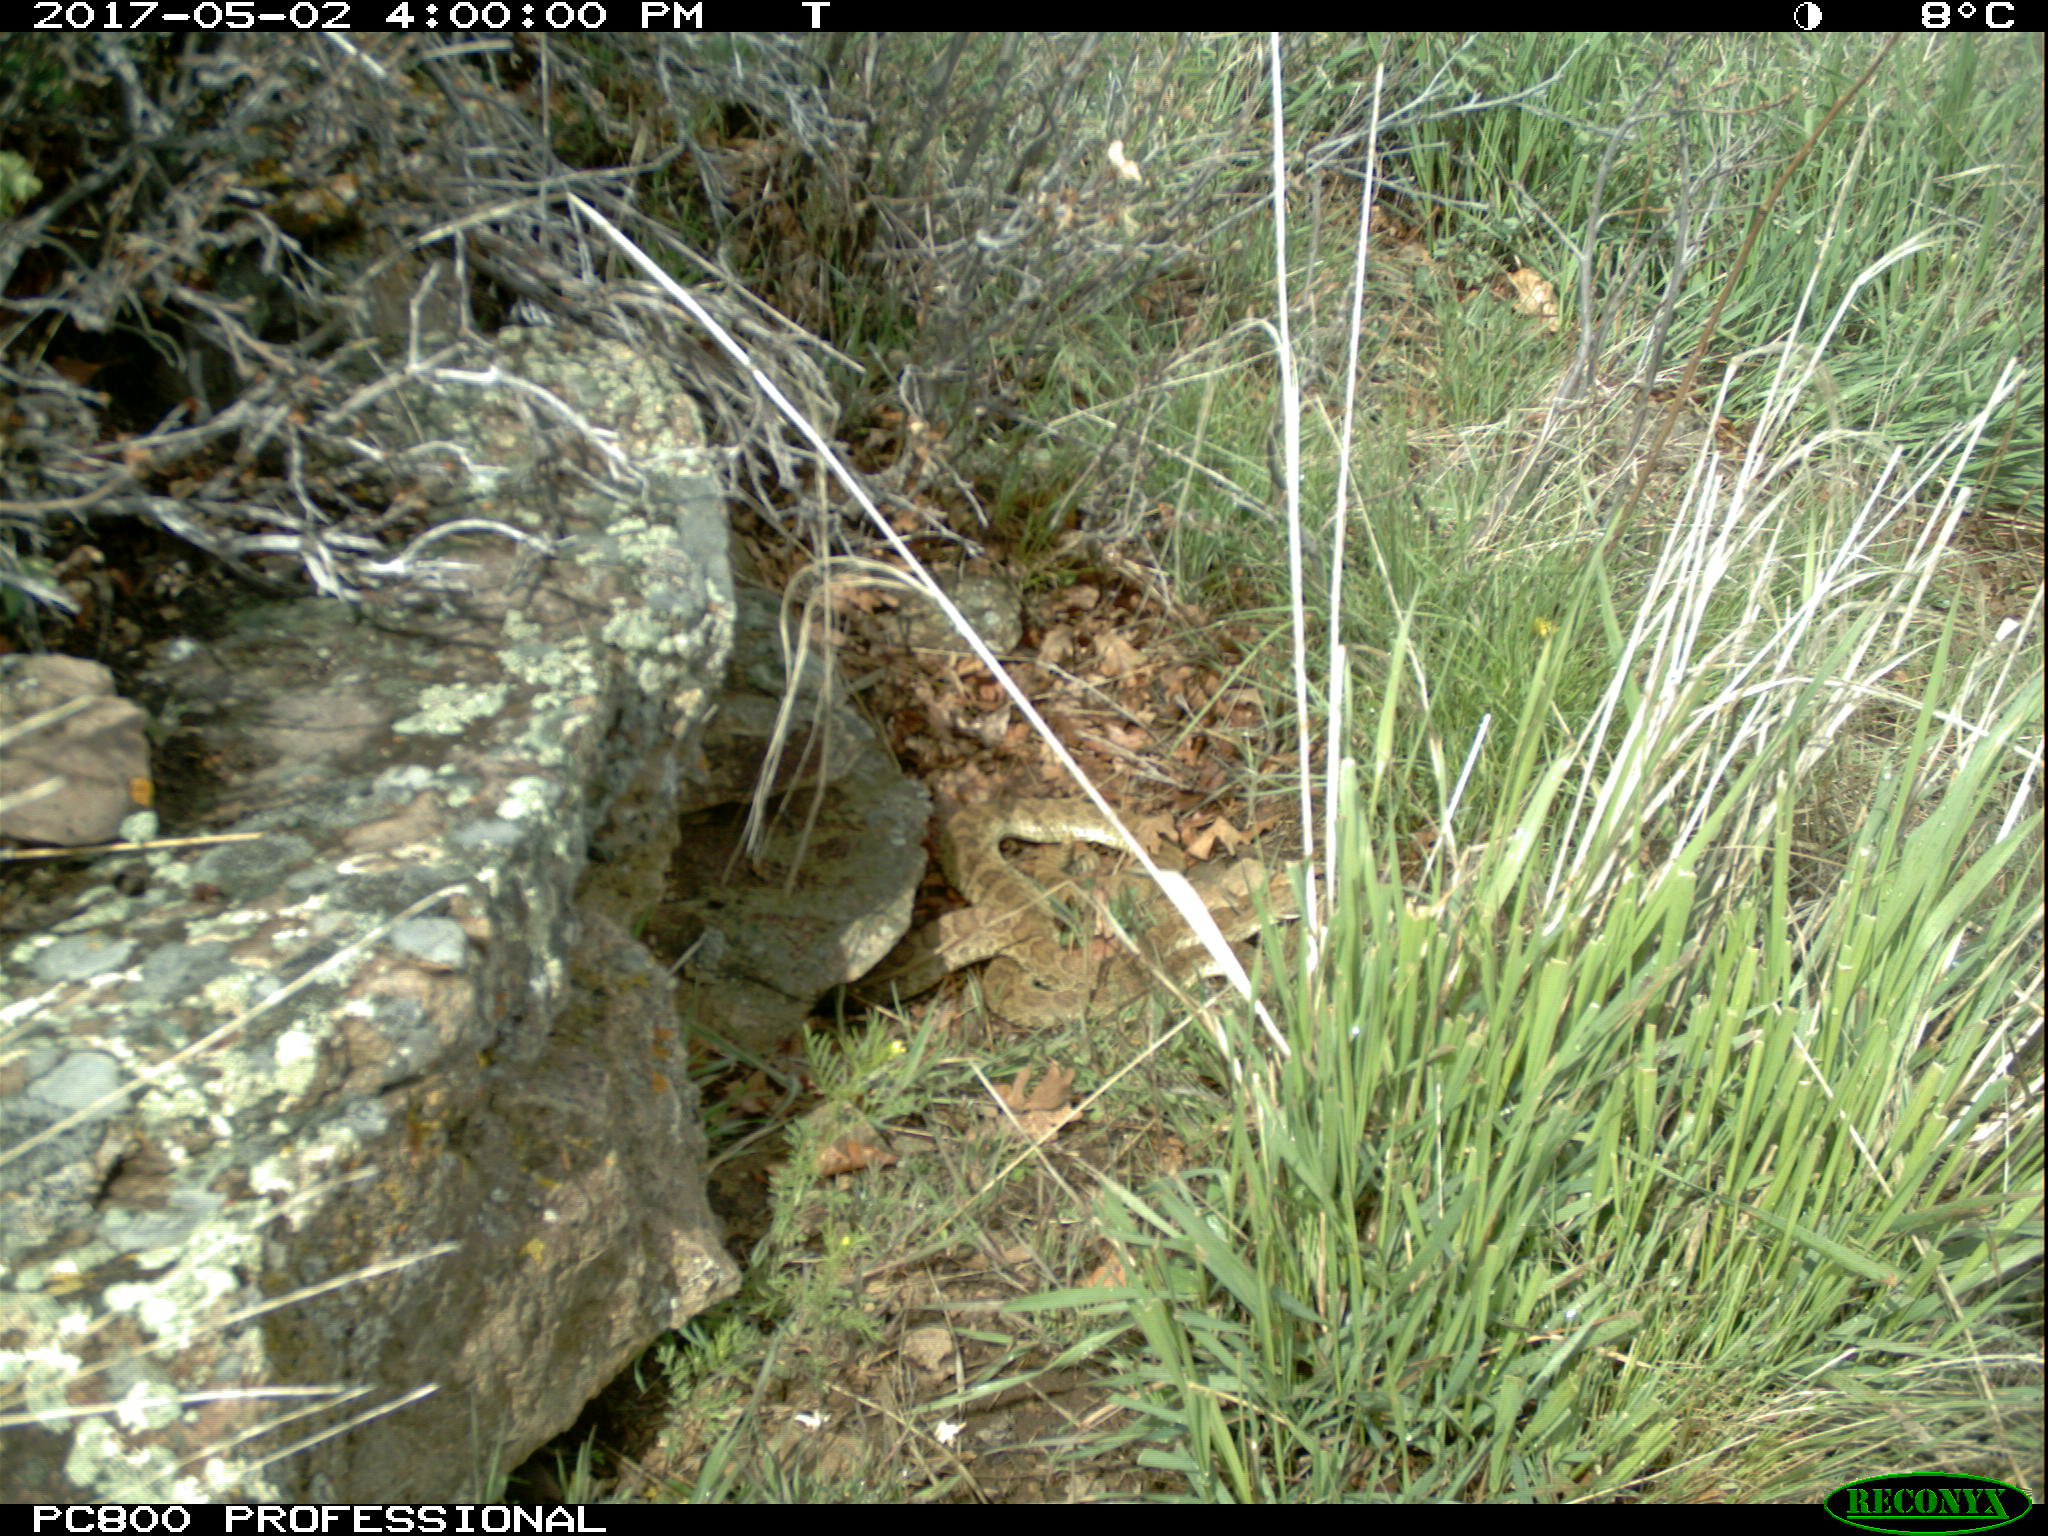snake: (853, 786, 1280, 1034)
